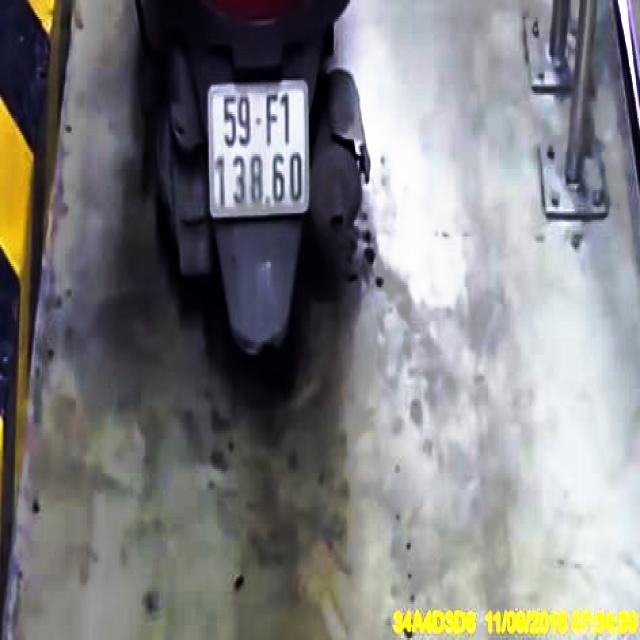license_plate: (212, 84, 310, 219)
